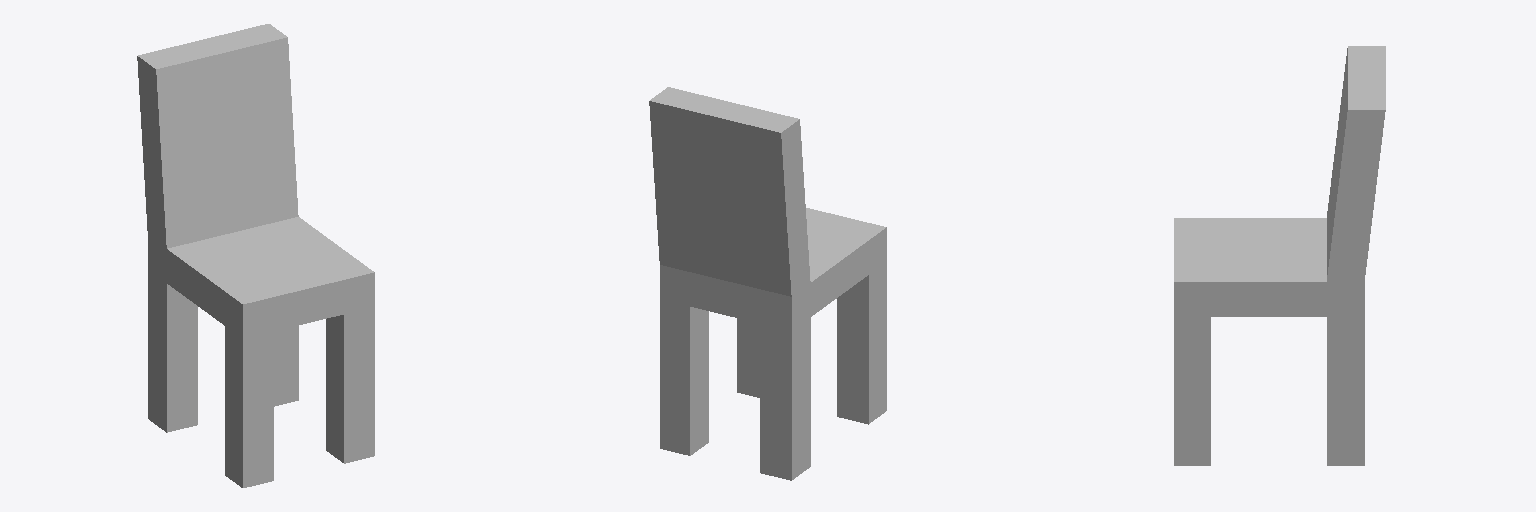
The model's file is chair_01.obj.
The picture shows the model from 3 angles: view 1: azimuth 30°, elevation 25°; view 2: azimuth 150°, elevation 25°; view 3: azimuth 270°, elevation 25°; orthographic projection.
Parts seen in each view (by area): view 1: Chair_01; view 2: Chair_01; view 3: Chair_01.
Boxes of the visible parts, x1,y1,x2,y2 form: Chair_01: [137, 24, 374, 487]; Chair_01: [649, 87, 886, 480]; Chair_01: [1174, 46, 1385, 465].
Size of the model in its own units: 0.8 by 2.06 by 1.11.